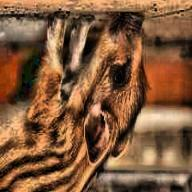boar: (0, 0, 158, 192)
